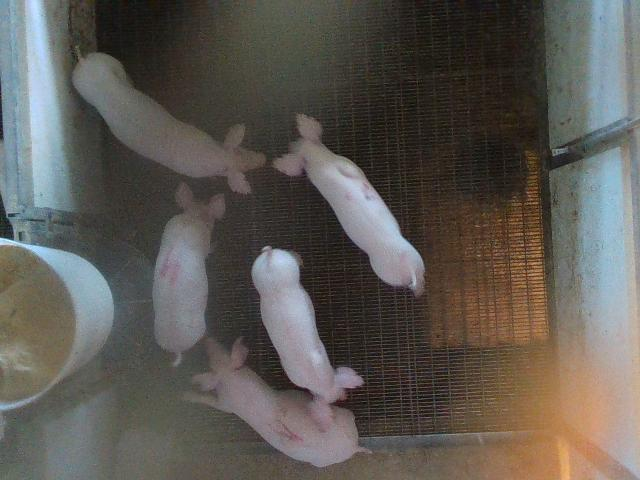pig-4: (152, 182, 225, 366)
